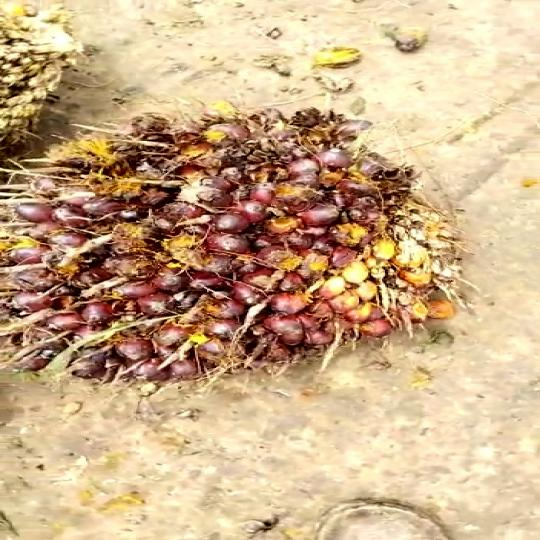masak: (0, 94, 503, 414)
